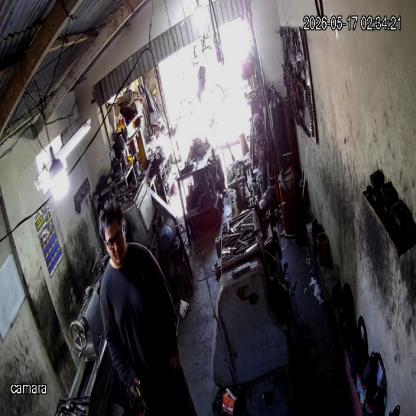lentes: (104, 224, 124, 248)
